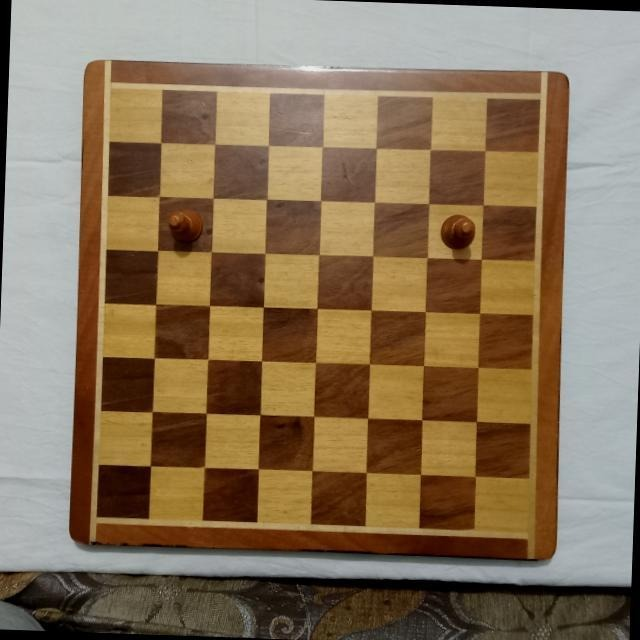white-pawn: (438, 212, 477, 253), (164, 204, 203, 243)
